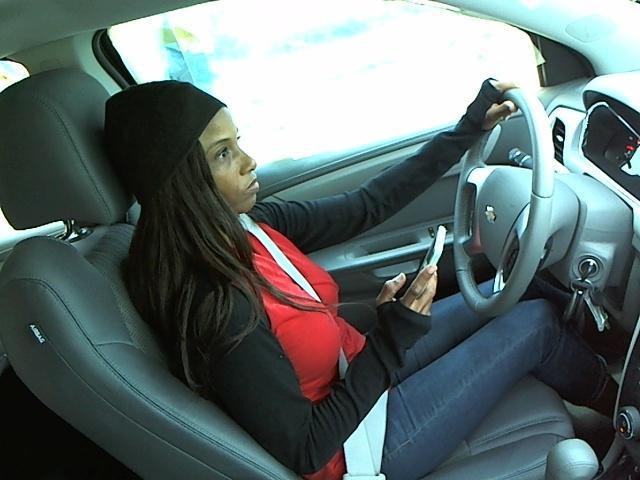c1 - Texting: (95, 70, 568, 433)
